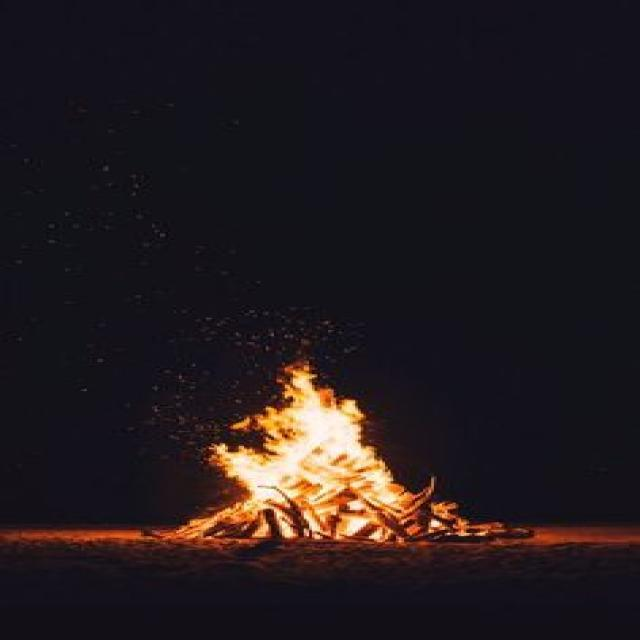Fire: (202, 353, 478, 545)
